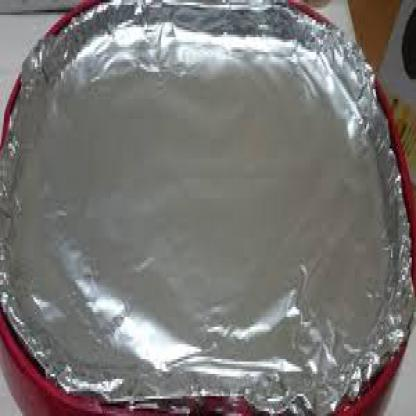METAL: (0, 0, 409, 409)
